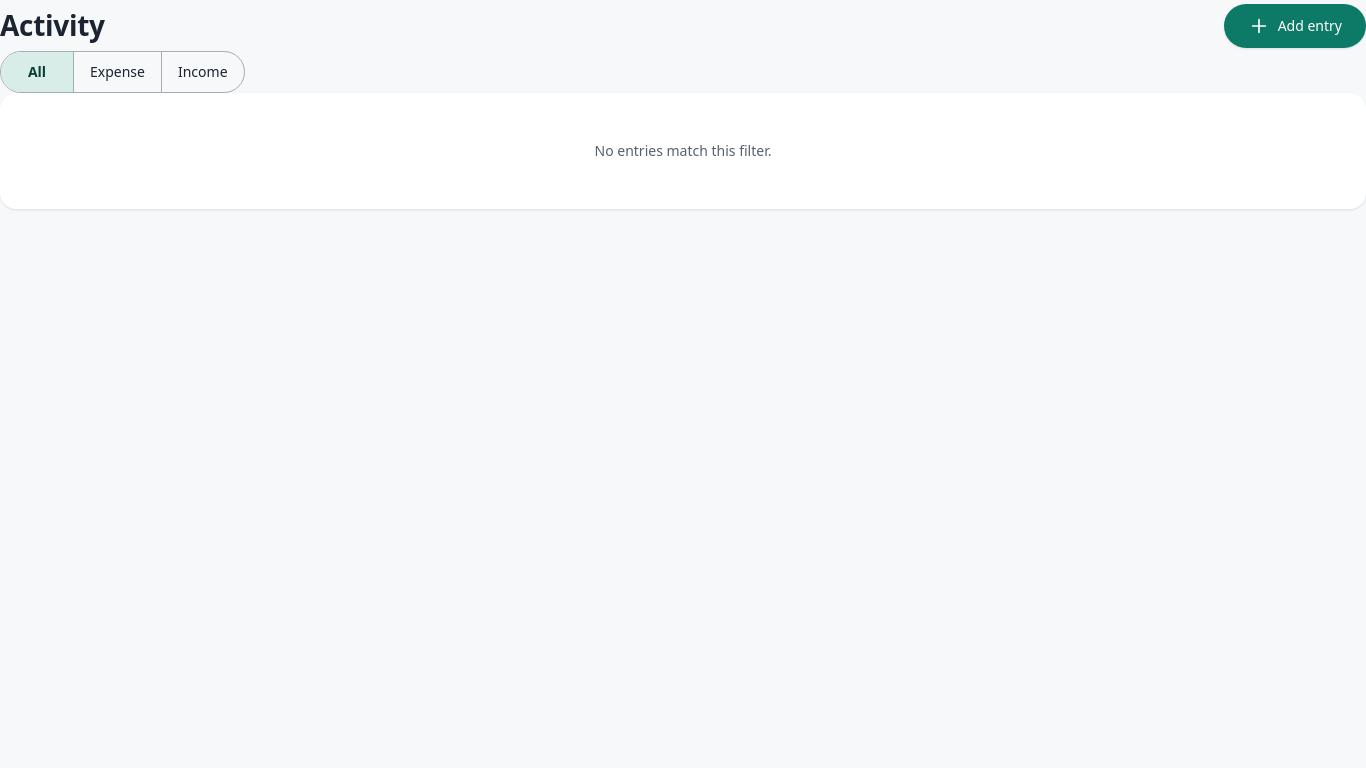
Test: TransactionsPage › deletes with undo
The width and height of the screenshot is (1366, 768).
Expected: the text "No entries match this filter." is shown, [594, 141, 772, 160]
Click the button "Add entry" at (1295,26), box [1224, 4, 1365, 48]
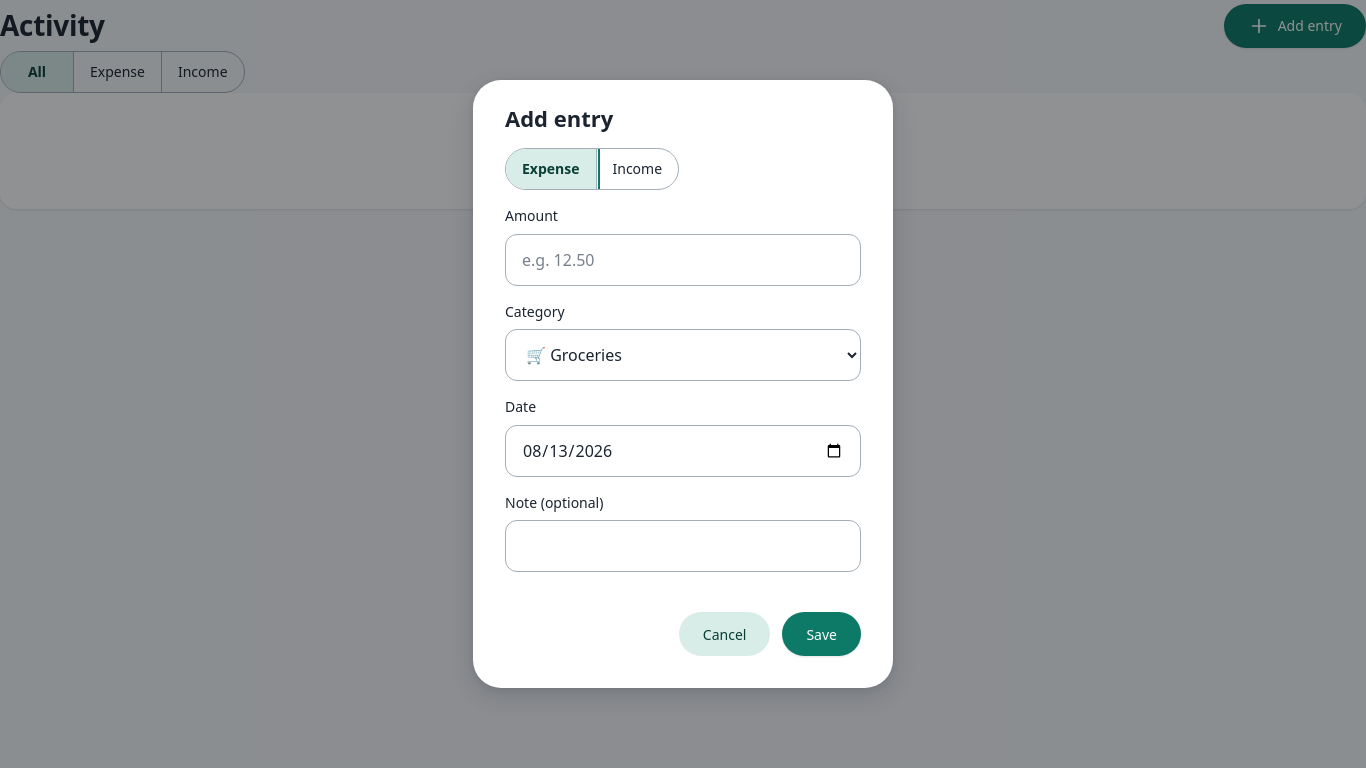
Type "5" into the field labelled "Amount" at (683,260), box [505, 234, 861, 286]
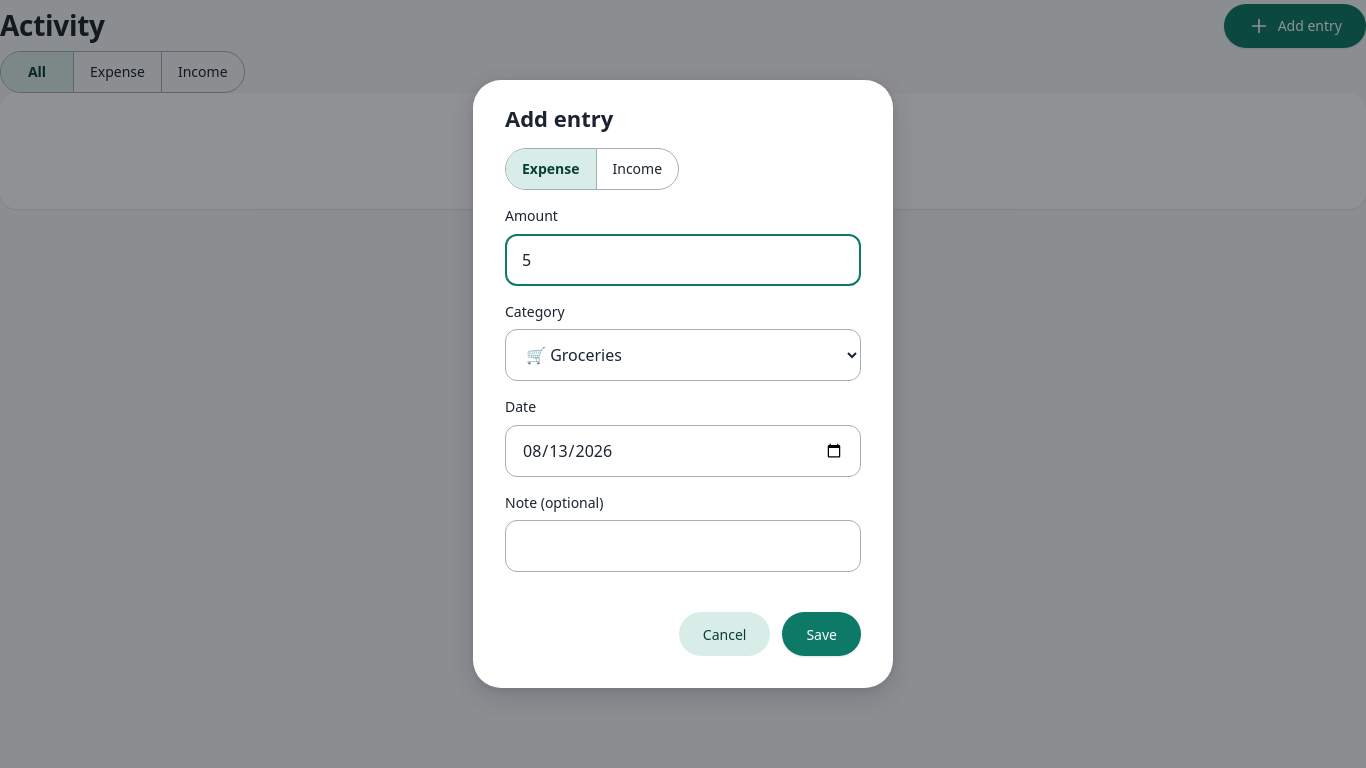
Click the button "Save" at (822,634), box [782, 612, 861, 656]
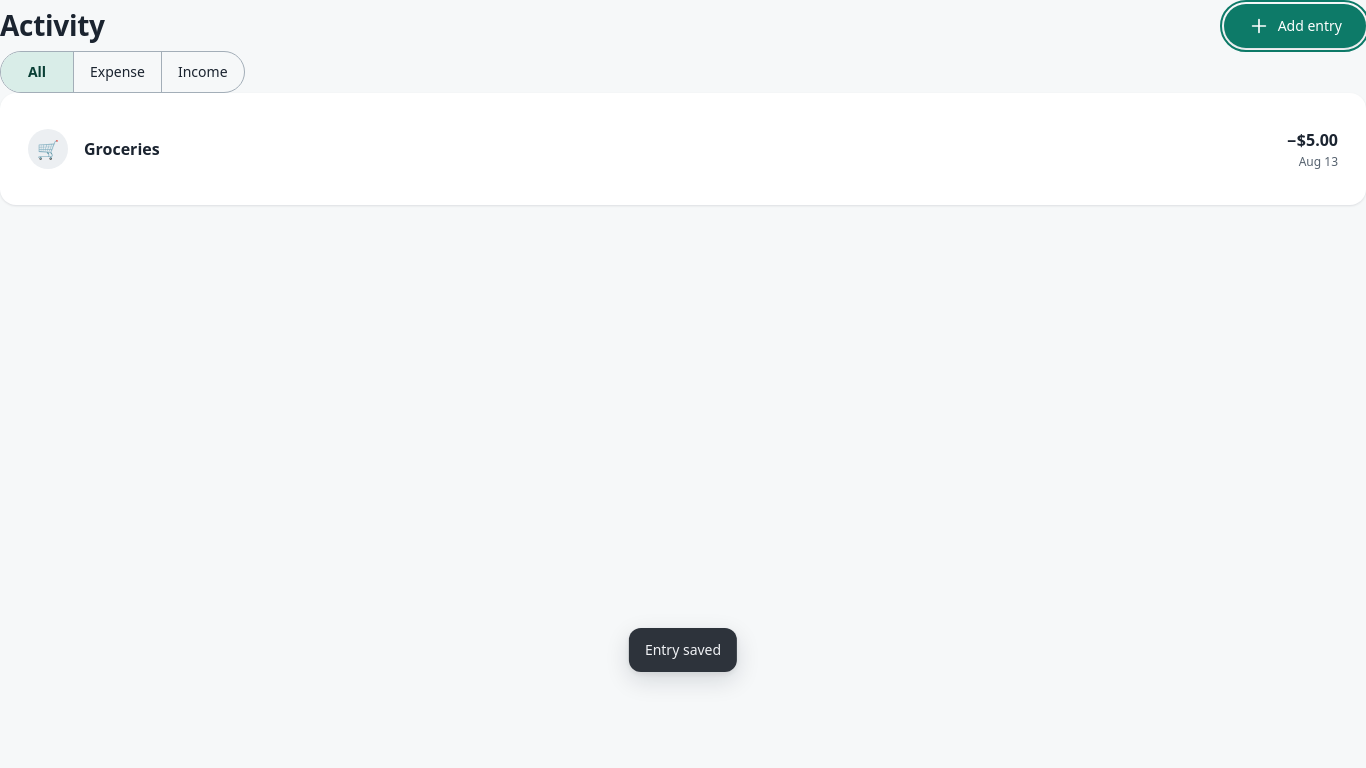
Expected: the dialog is gone
Click the button "🛒 Groceries −$5.00 Aug 13" at (48,149), box [24, 117, 1342, 181]
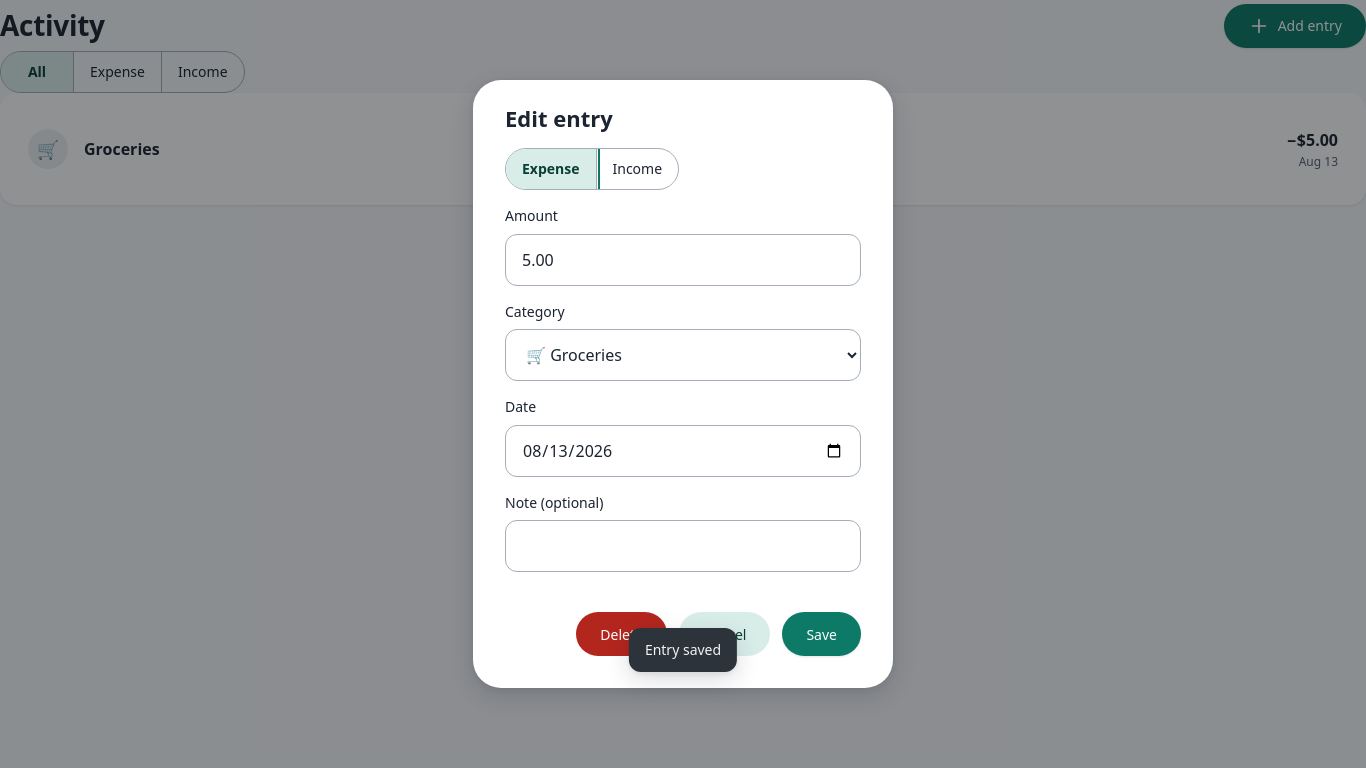
Expected: the dialog "Edit entry" is shown, [473, 80, 893, 688]
Click the button "Delete" at (622,634), box [576, 612, 667, 656]
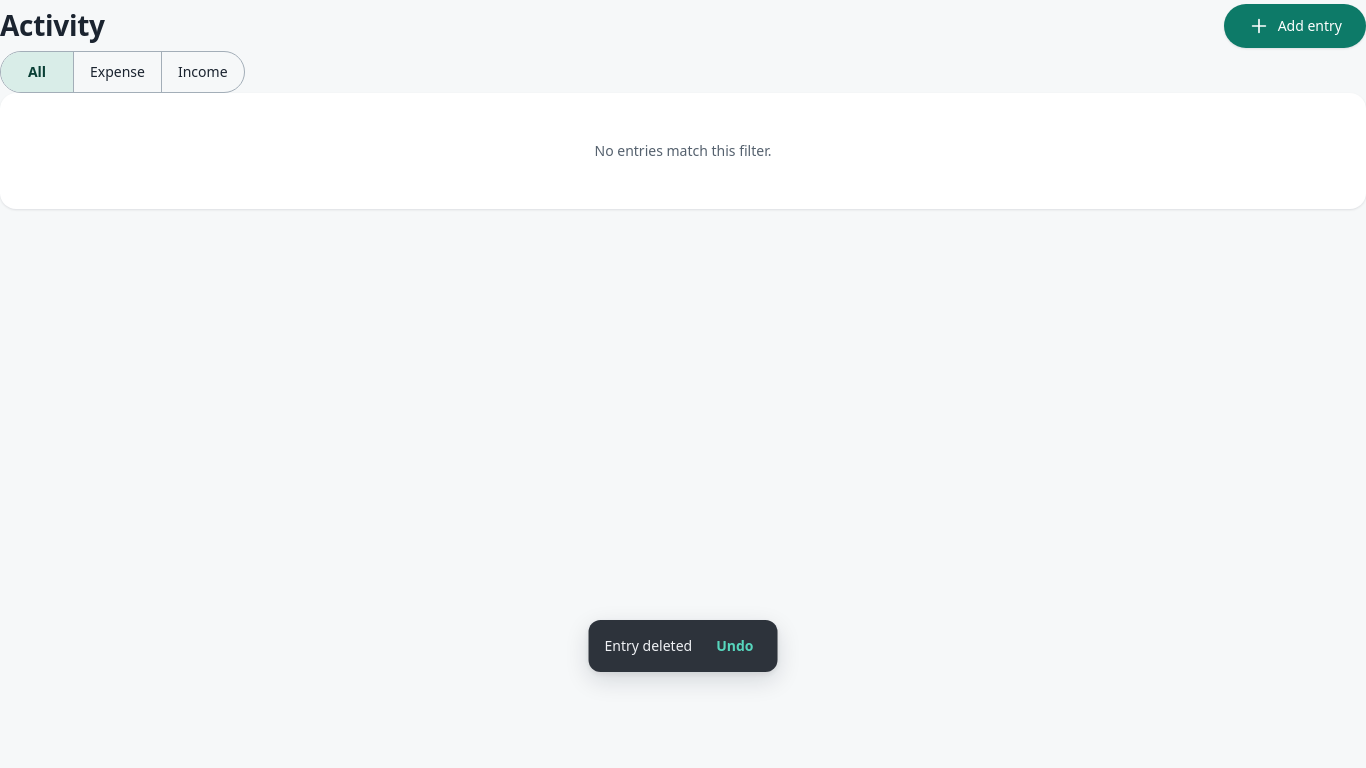
Expected: the dialog is gone
Expected: the text "No entries match this filter." is shown, [594, 141, 772, 160]
Click the button "Undo" at (735,646), box [708, 632, 762, 660]
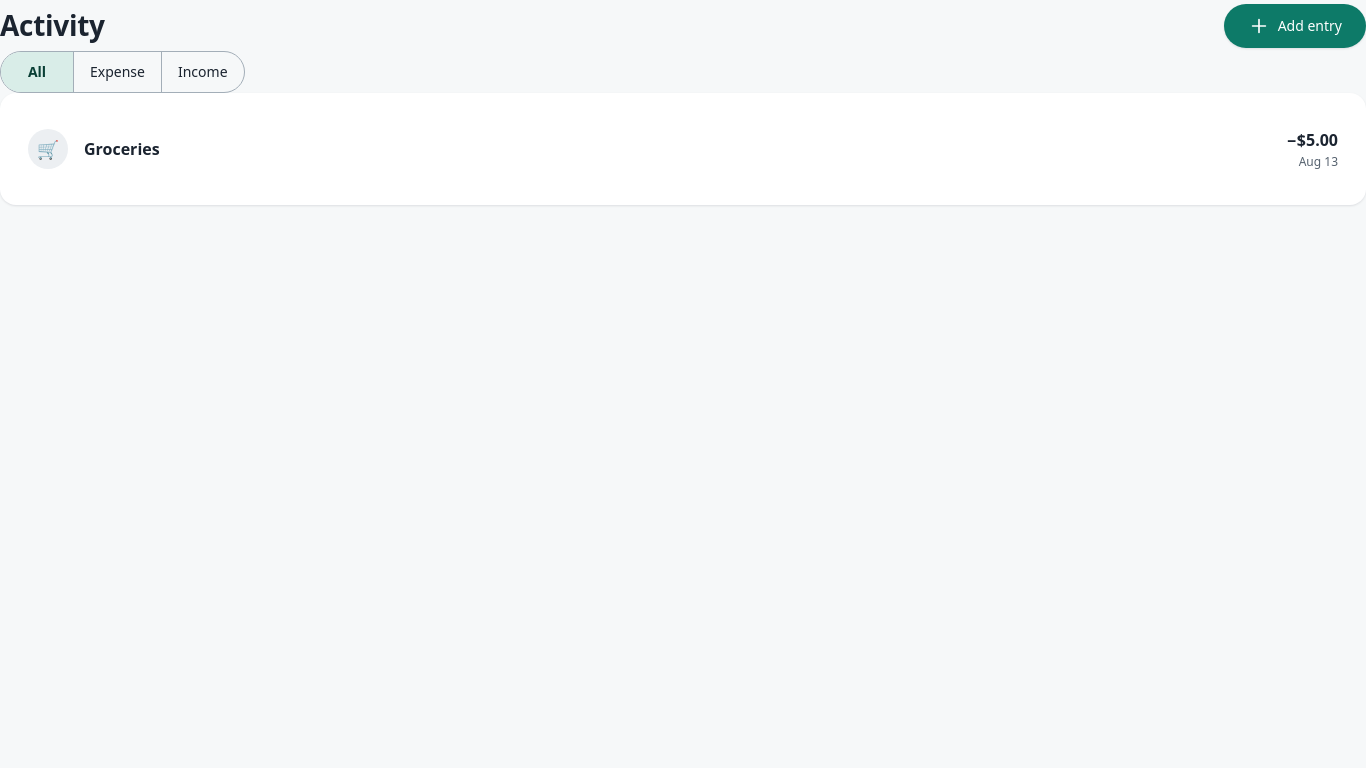
Expected: the text "Groceries" is shown, [84, 138, 160, 160]
